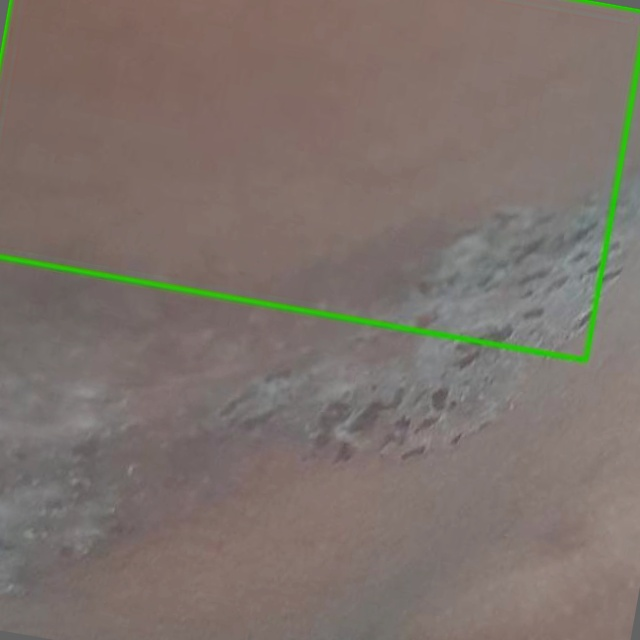Eczema: (0, 0, 639, 361)
